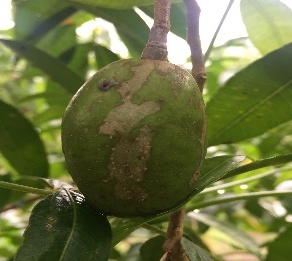Coc: (59, 57, 207, 217)
